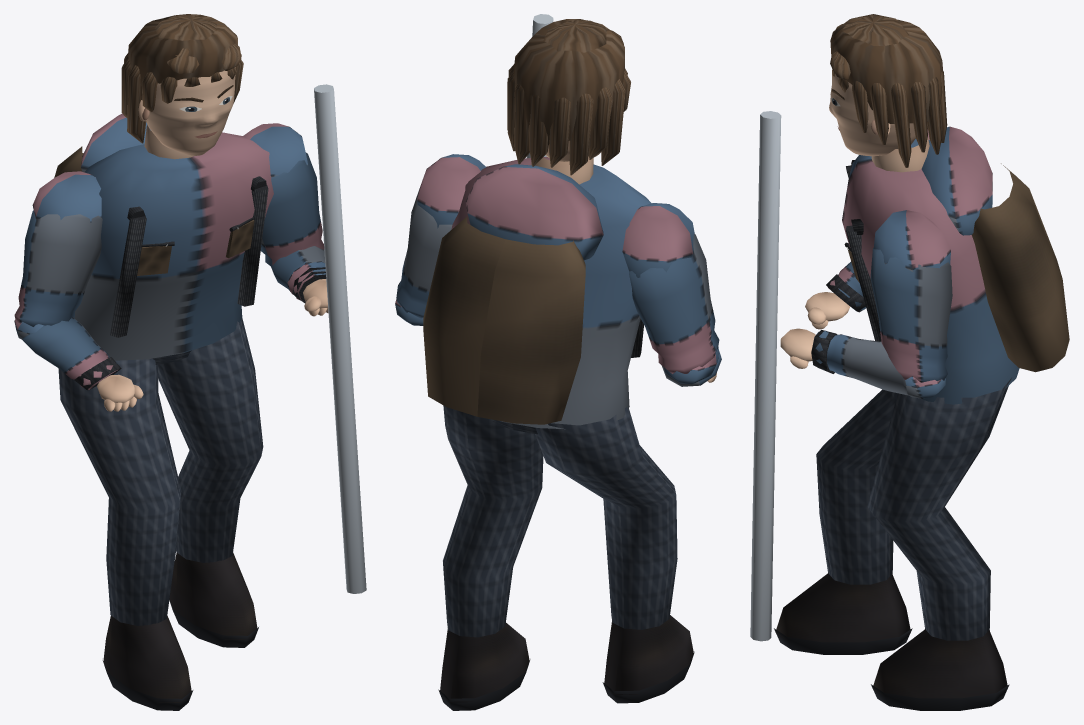
File: HERO-02_fedor-alert.glb
3 views of the same model, side by side, from view 1: azimuth 30°, elevation 25°; view 2: azimuth 150°, elevation 25°; view 3: azimuth 270°, elevation 25° (orthographic).
Visible parts, largest first — view 1: fedor · soles; view 2: fedor · soles; view 3: fedor · soles.
Part boxes in pixels (left/top/right/bottom): fedor · soles: left=14, top=14, right=366, bottom=710; fedor · soles: left=395, top=14, right=721, bottom=710; fedor · soles: left=750, top=14, right=1069, bottom=710.
Size of the model in its own units: 0.8013 by 1.59 by 0.7095.
Materials: 3 (2 with a texture image).
